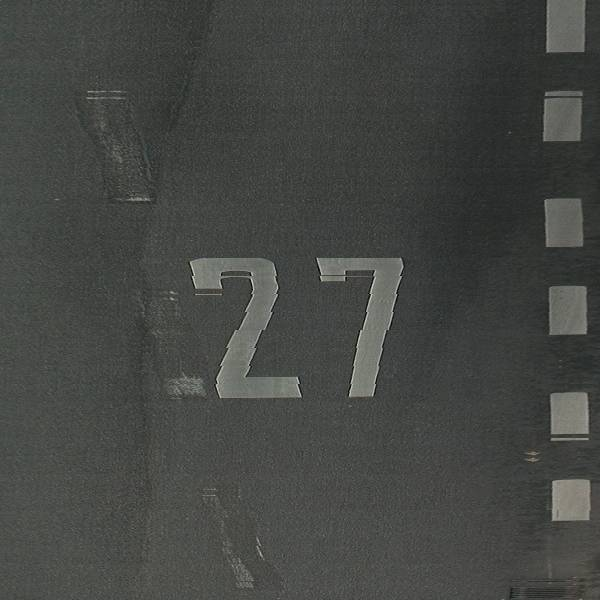road_damage: (153, 17, 209, 183), (128, 315, 163, 492)
